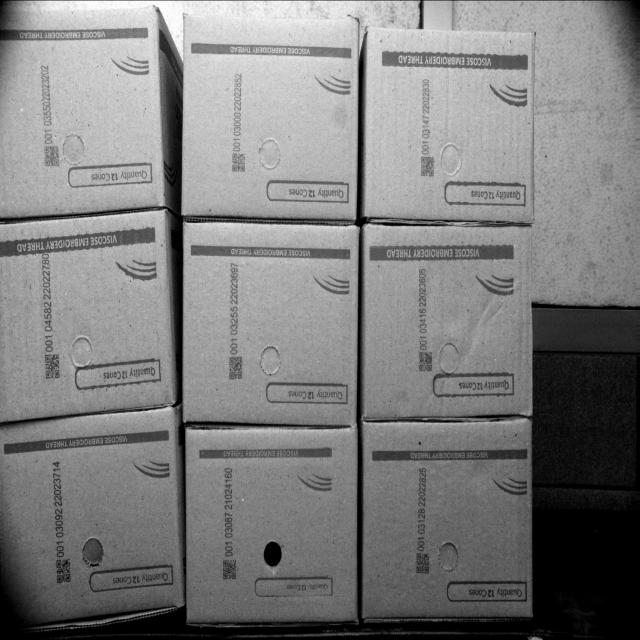cardboxes: (0, 208, 174, 422), (0, 416, 178, 623), (184, 17, 360, 218), (185, 423, 360, 623), (362, 417, 534, 620), (180, 223, 356, 421), (0, 5, 162, 217), (360, 227, 532, 418), (366, 32, 534, 217)
